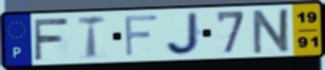7: (215, 10, 247, 56)
F: (31, 16, 71, 62), (122, 13, 160, 58)
J: (164, 11, 204, 57)
N: (251, 7, 294, 56)
T: (76, 14, 108, 61)
